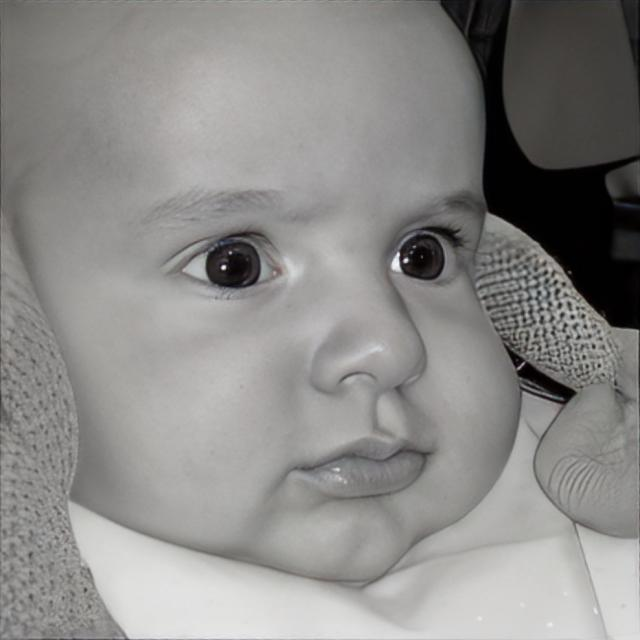Fear: (0, 0, 522, 592)
